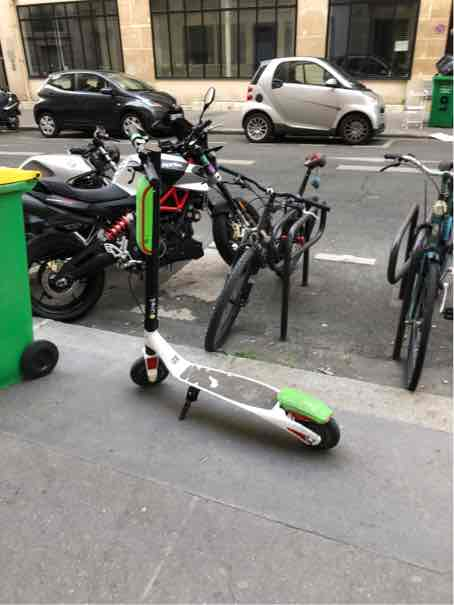scooter: (88, 104, 346, 454)
